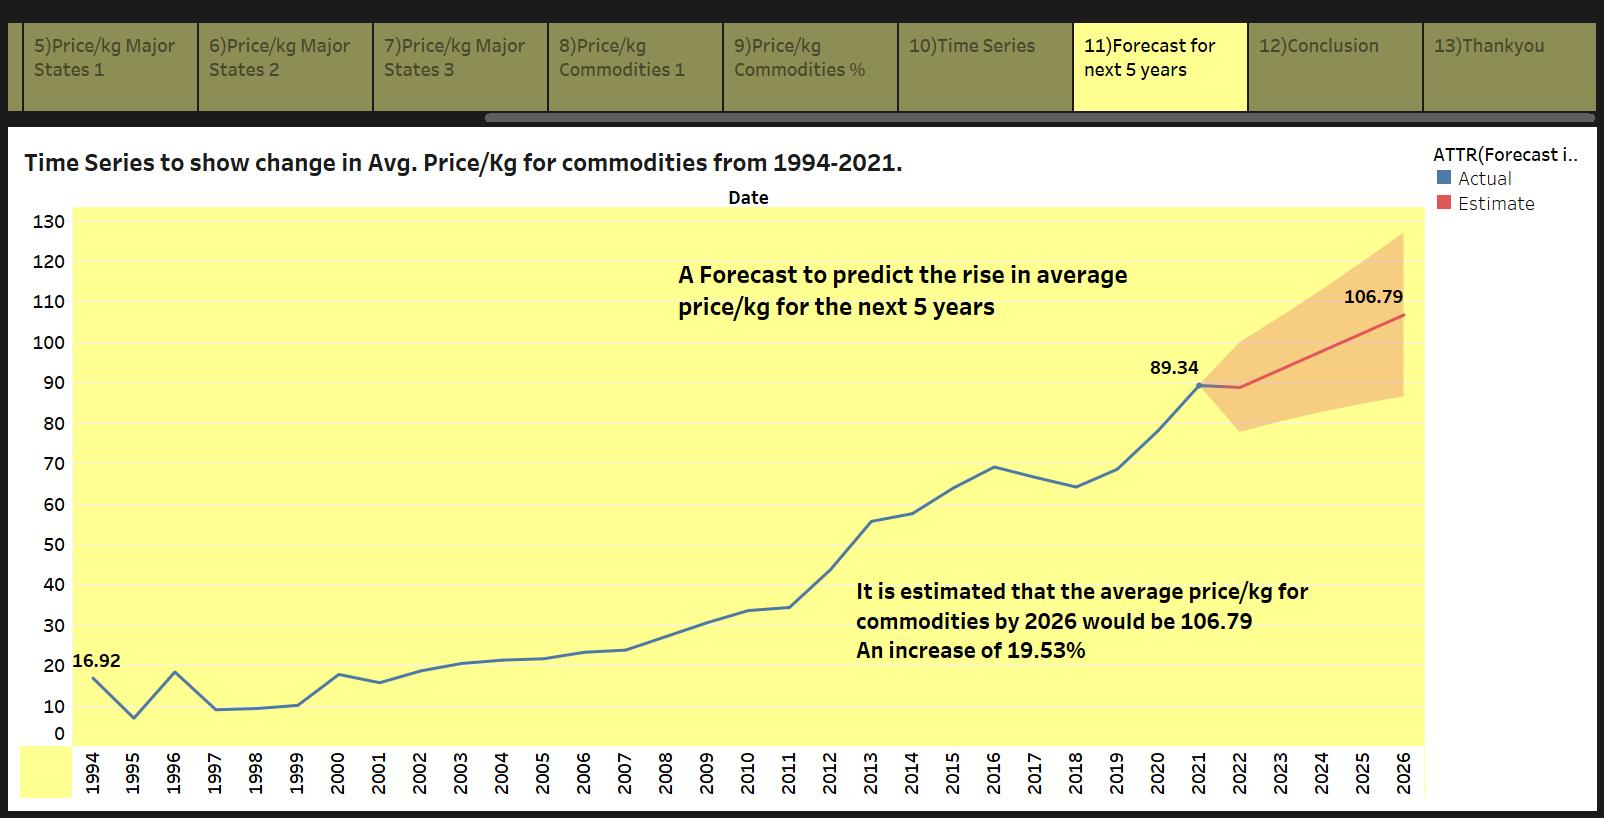

The page's visual inventory and layout, read from the dashboard file:
{"tool":"tableau","page":{"name":"10))d","canvas":[1000,1000],"units":"permille","ordinal":1},"visuals":[{"type":"worksheet","title":"1)Avg.Price/Years (2)","mark":"Automatic","rows":["Calculation_664843939589042179"],"cols":["date"],"box":[4.2,7.7,908.3,984.5]},{"type":"legend","title":"1)Avg.Price/Years (2)","param":"[federated.0j2qt5x1es7yb910xmxfb1rf4i1j].[attr:Forecast Indicator:nk]","box":[912.5,7.7,83.3,81.2]},{"type":"text","box":[419.6,189.5,337.9,97.8]},{"type":"text","box":[531.8,649.1,337.9,145.5]}]}

Visuals, with their boxes on the dashboard's canvas, which has no fixed pixel size, in thousandths of its width and height (x1, y1, x2, y2). These are canvas units, not pixel positions in the 1604x818 screenshot, which may show the page scaled, cropped or inside an application window:
"1)Avg.Price/Years (2)" worksheet: {"x1": 4, "y1": 8, "x2": 912, "y2": 992}
"1)Avg.Price/Years (2)" legend: {"x1": 912, "y1": 8, "x2": 996, "y2": 89}
text: {"x1": 420, "y1": 190, "x2": 758, "y2": 287}
text: {"x1": 532, "y1": 649, "x2": 870, "y2": 795}
